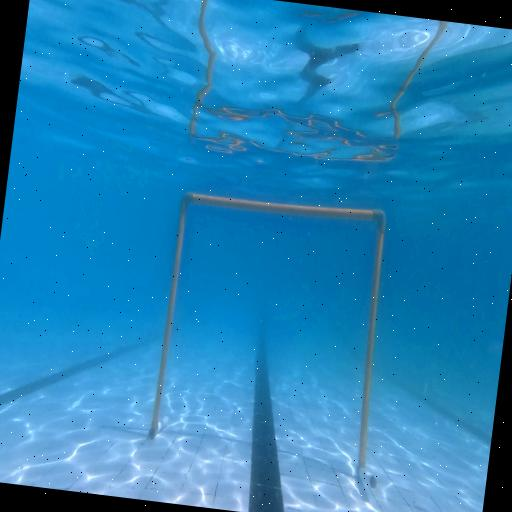gate: (146, 186, 410, 490)
